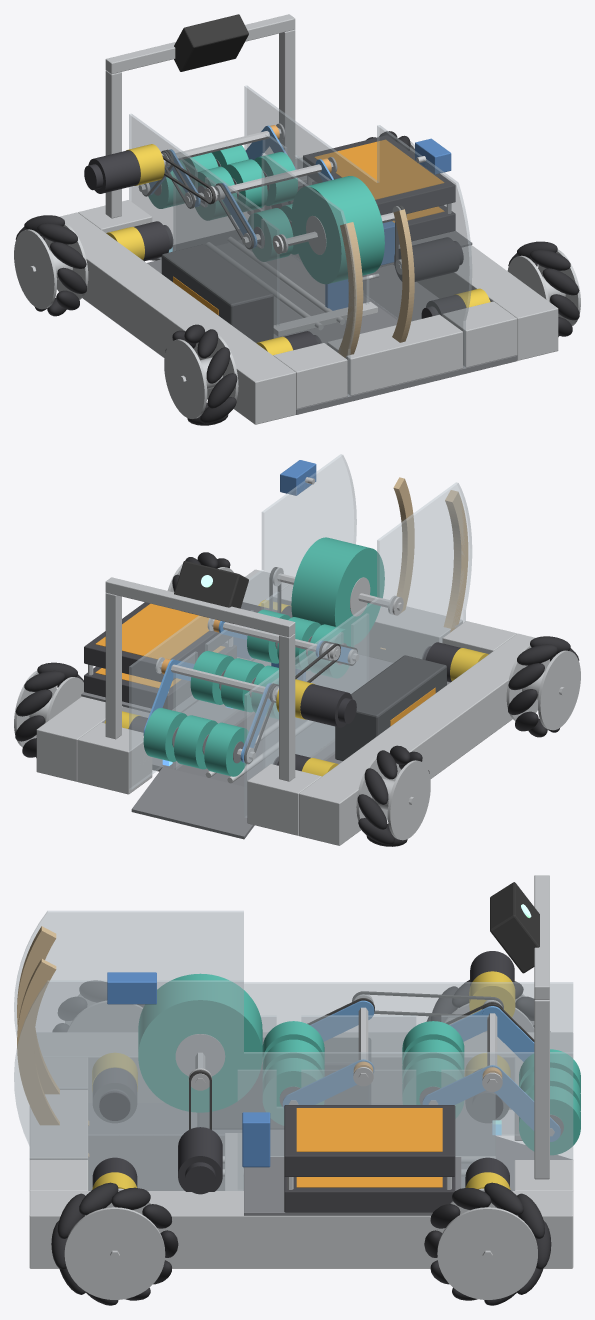
File: revB_anim.glb
The picture shows the model from 3 angles, top to bottom: view 1: azimuth 30°, elevation 25°; view 2: azimuth 150°, elevation 25°; view 3: azimuth 270°, elevation 25°; orthographic projection. The views are drawn at different scales.
Visible parts, largest first — view 1: Side plate L, Side plate R, Frame rail L, Belly pan, Flywheel 4in 35A, Rear crossmember centre, Frame rail R, Channel wall L, Battery 12V, Expansion Hub label, Rear stub R, Rear stub L (+36 smaller); view 2: Side plate L, Side plate R, Frame rail L, Flywheel 4in 35A, Entry lip, Belly pan, Battery 12V, Frame rail R, Channel wall L, Front stub R, Expansion Hub label, Rear crossmember centre (+38 smaller); view 3: Side plate R, Side plate L, Frame rail R, Flywheel 4in 35A, Belly pan, Channel wall R, Mecanum RR side plate.001, Mecanum FR side plate.001, Frame rail L, Expansion Hub label, Channel wall L, Expansion Hub (+51 smaller).
Boxes of the visible parts, left/top/right/bottom form: Side plate L: left=129, top=113, right=356, bottom=396; Side plate R: left=244, top=85, right=472, bottom=368; Frame rail L: left=44, top=212, right=295, bottom=424; Belly pan: left=147, top=240, right=517, bottom=414; Flywheel 4in 35A: left=291, top=176, right=384, bottom=284; Rear crossmember centre: left=327, top=314, right=462, bottom=395; Frame rail R: left=299, top=157, right=558, bottom=360; Channel wall L: left=173, top=156, right=279, bottom=325; Battery 12V: left=161, top=244, right=273, bottom=342; Expansion Hub label: left=314, top=139, right=444, bottom=199; Rear stub R: left=442, top=301, right=517, bottom=367; Rear stub L: left=273, top=343, right=347, bottom=408; Side plate L: left=244, top=482, right=472, bottom=817; Side plate R: left=129, top=454, right=356, bottom=789; Frame rail L: left=299, top=633, right=550, bottom=845; Flywheel 4in 35A: left=291, top=537, right=384, bottom=644; Entry lip: left=131, top=767, right=254, bottom=839; Belly pan: left=152, top=655, right=450, bottom=787; Battery 12V: left=335, top=655, right=446, bottom=760; Frame rail R: left=36, top=569, right=289, bottom=781; Channel wall L: left=263, top=613, right=368, bottom=768; Front stub R: left=77, top=722, right=152, bottom=794; Expansion Hub label: left=95, top=603, right=209, bottom=659; Rear crossmember centre: left=354, top=606, right=462, bottom=662; Side plate R: left=14, top=980, right=573, bottom=1190; Side plate L: left=14, top=910, right=573, bottom=1135; Frame rail R: left=29, top=1191, right=573, bottom=1268; Flywheel 4in 35A: left=138, top=973, right=262, bottom=1112; Belly pan: left=88, top=1103, right=495, bottom=1190; Channel wall R: left=238, top=1070, right=495, bottom=1190; Mecanum RR side plate.001: left=64, top=1207, right=165, bottom=1299; Mecanum FR side plate.001: left=437, top=1207, right=537, bottom=1299; Frame rail L: left=36, top=1032, right=573, bottom=1109; Expansion Hub label: left=296, top=1108, right=442, bottom=1151; Channel wall L: left=260, top=1015, right=488, bottom=1069; Expansion Hub: left=284, top=1105, right=455, bottom=1176.
Size of the model in its own units: 17.6 by 10.62 by 18.25.
